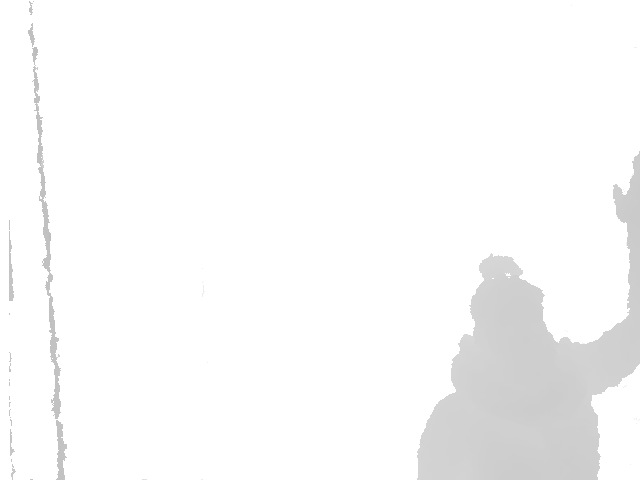hand: (613, 149, 640, 226)
head: (463, 255, 557, 377)
person: (419, 151, 640, 479)
